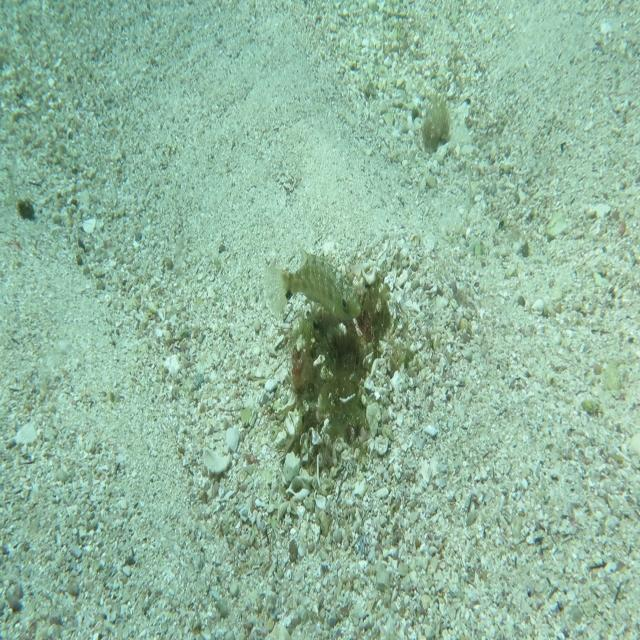MAN: (264, 249, 362, 322)
core_nest: (343, 288, 387, 330)
nest: (275, 272, 406, 480)
vegetation: (420, 88, 452, 151), (16, 196, 36, 222)
